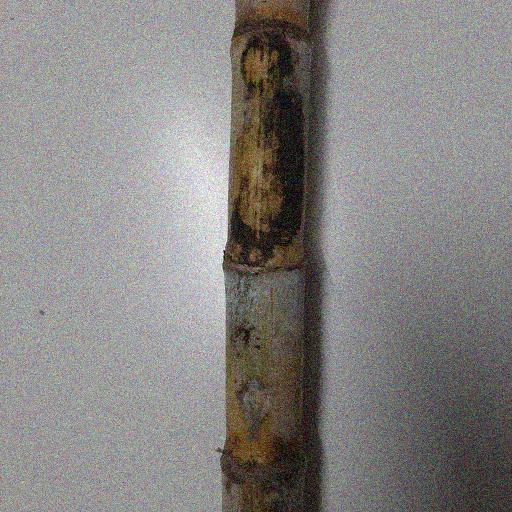Bud: (244, 246, 267, 269)
